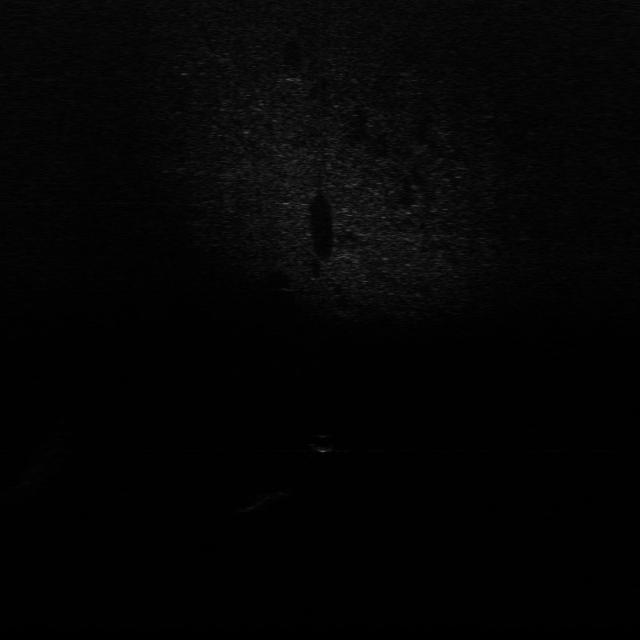ball: (310, 434, 334, 454)
square cage: (230, 486, 300, 513)
